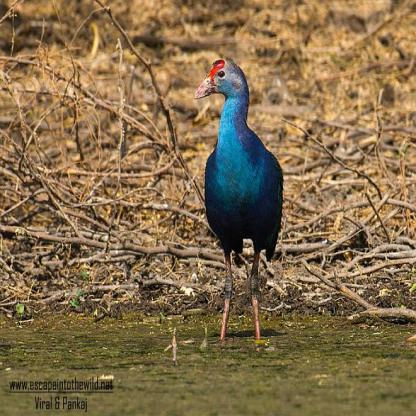Burung: (192, 54, 283, 342)
